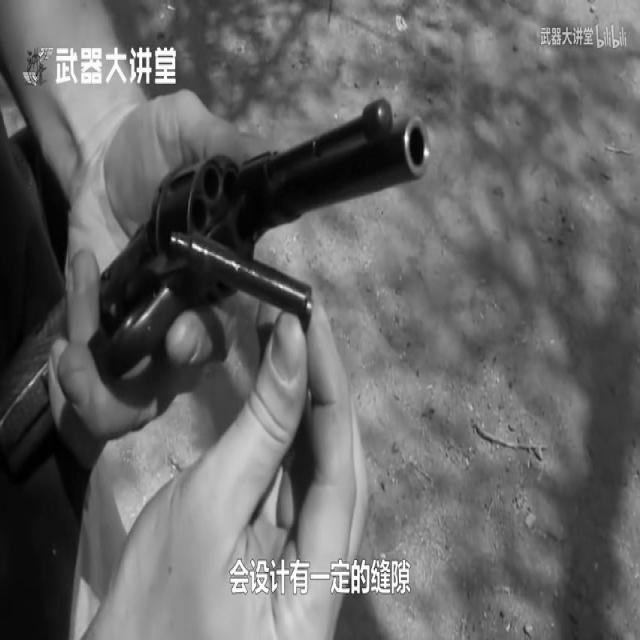Short-Gun: (0, 0, 458, 640)
